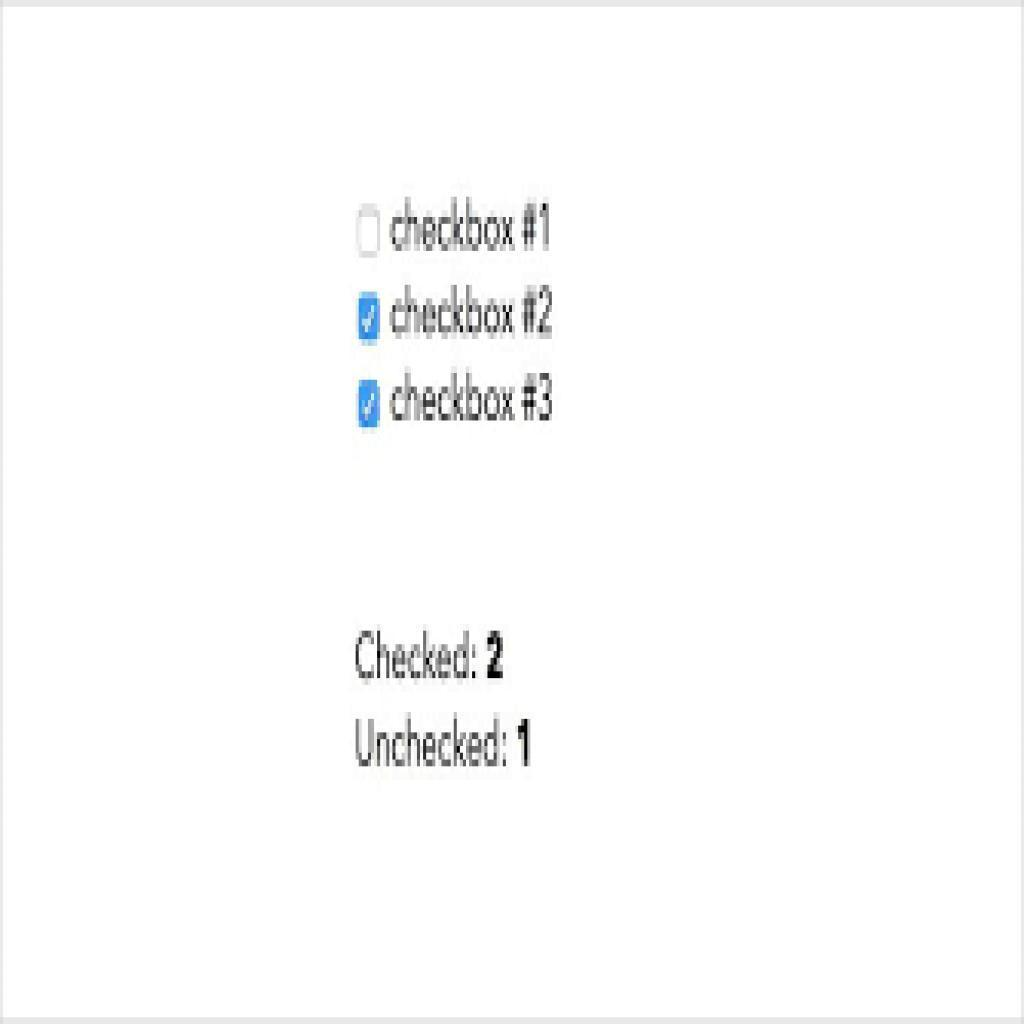checkbox: (356, 378, 385, 434), (356, 290, 382, 350), (356, 207, 384, 260)
